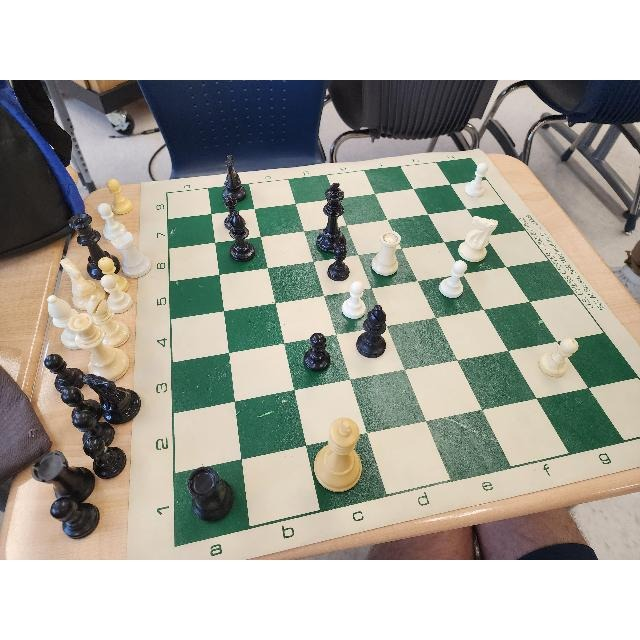black-bishop: (357, 306, 389, 358), (230, 211, 254, 261)
black-king: (317, 181, 345, 253)
black-knight: (83, 374, 142, 424), (222, 155, 246, 203)
black-pawn: (51, 495, 99, 539), (84, 437, 126, 479), (72, 409, 115, 444), (43, 353, 84, 387), (62, 386, 100, 417), (305, 334, 331, 372), (328, 245, 348, 280), (224, 196, 243, 232)
black-queen: (68, 213, 121, 277)
black-rook: (32, 450, 95, 500), (189, 468, 233, 526)
white-bishop: (47, 293, 91, 350), (86, 293, 128, 347)
white-knight: (61, 257, 101, 309), (458, 216, 498, 262)
white-pawn: (539, 337, 579, 377), (100, 274, 134, 314), (98, 257, 130, 292), (97, 203, 126, 240), (440, 261, 466, 297), (341, 281, 365, 318), (109, 179, 133, 215), (465, 163, 489, 197)
white-queen: (70, 314, 130, 382)
white-rook: (110, 231, 151, 278), (371, 232, 401, 275)
